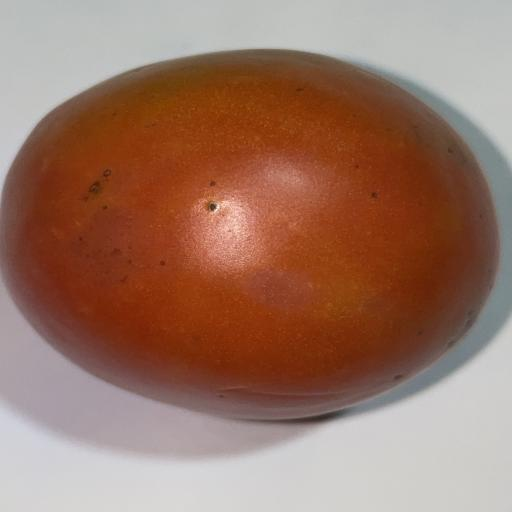ripe: (0, 50, 499, 419)
